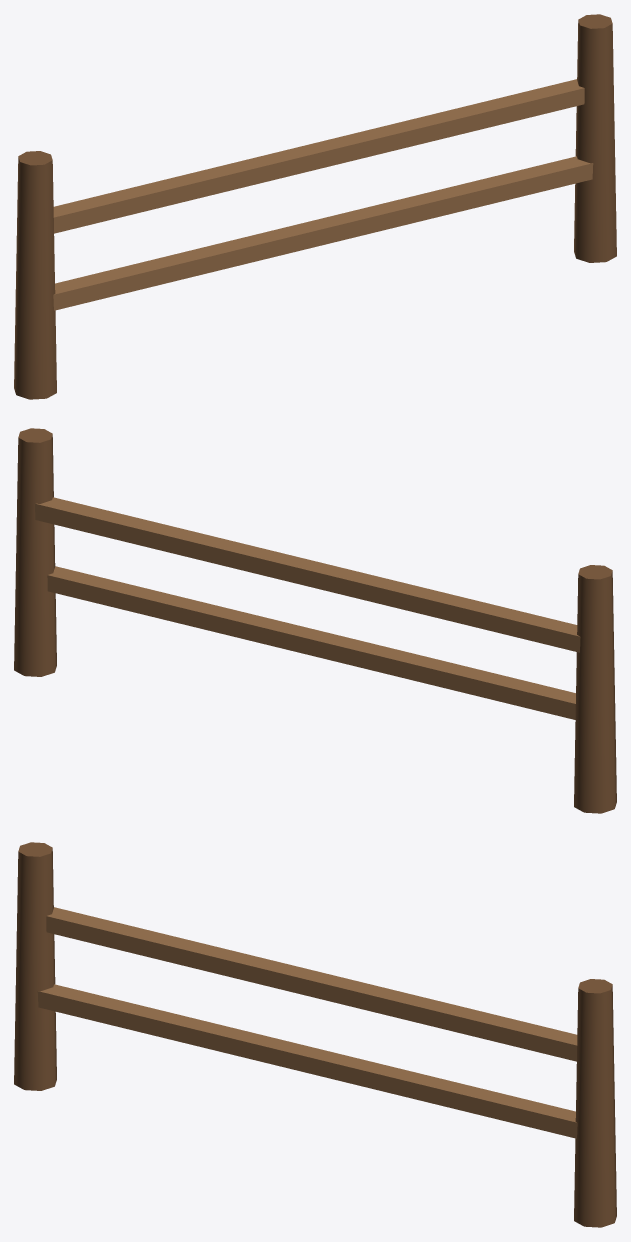
The model's file is fence_high.glb.
3 views of the same model, one above another, from view 1: azimuth 30°, elevation 25°; view 2: azimuth 150°, elevation 25°; view 3: azimuth 330°, elevation 25° (orthographic).
Size of the model in its own units: 3.1 by 1.15 by 0.2.
